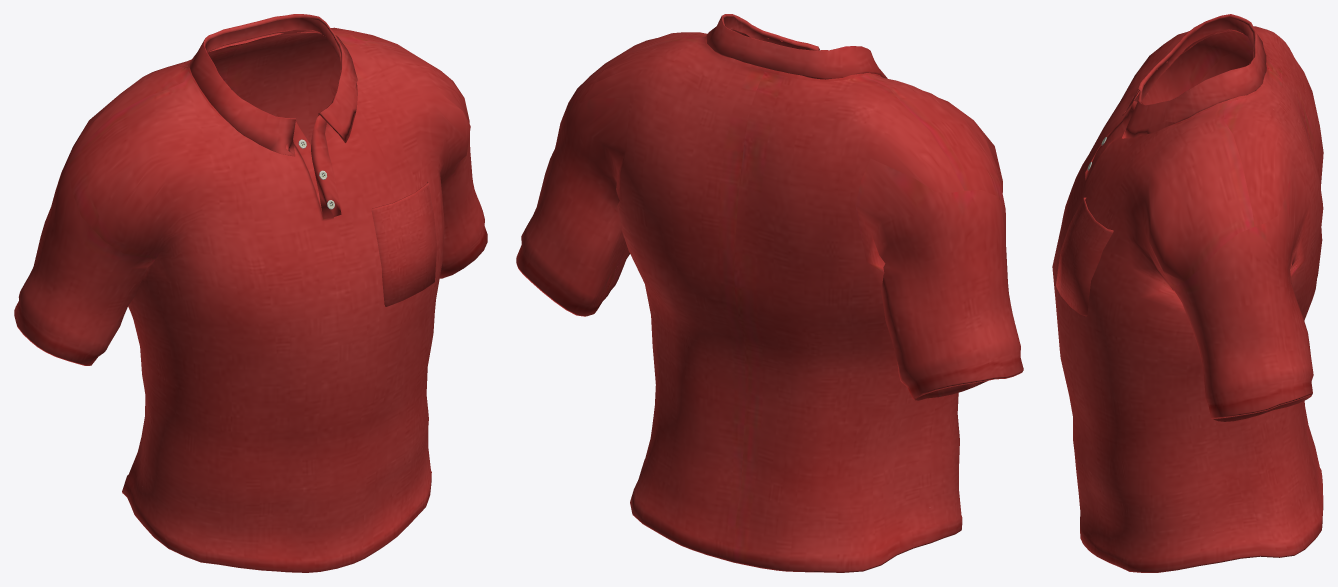
File: polo.fbx
The picture shows the model from 3 angles, left to right: view 1: azimuth 30°, elevation 25°; view 2: azimuth 150°, elevation 25°; view 3: azimuth 270°, elevation 25°; orthographic projection. The views are drawn at different scales.
Visible parts, largest first — view 1: red_polo; view 2: red_polo; view 3: red_polo.
Part boxes in pixels (x1=…): red_polo: x1=14, y1=14, x2=487, y2=572; red_polo: x1=516, y1=14, x2=1023, y2=572; red_polo: x1=1052, y1=14, x2=1323, y2=572.
Size of the model in its own units: 2.08 by 2.12 by 1.06.
4 materials, 4 textured.
